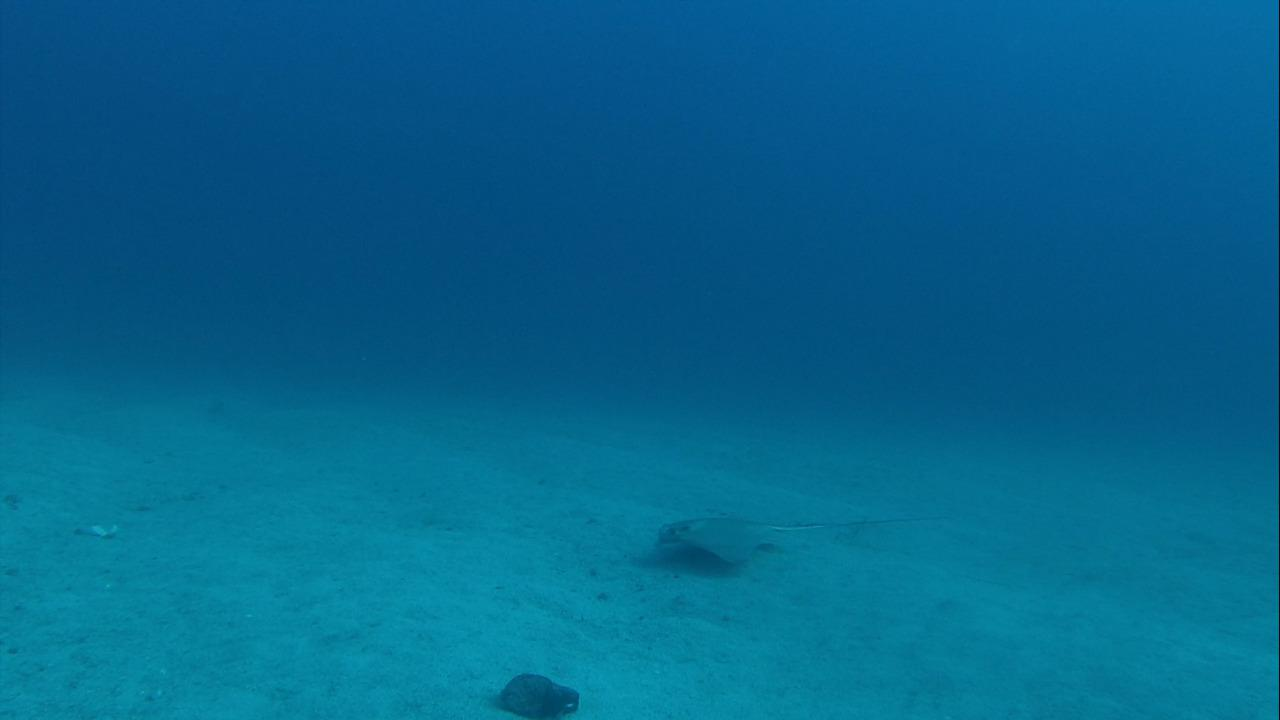myliobatis: (630, 506, 918, 573)
